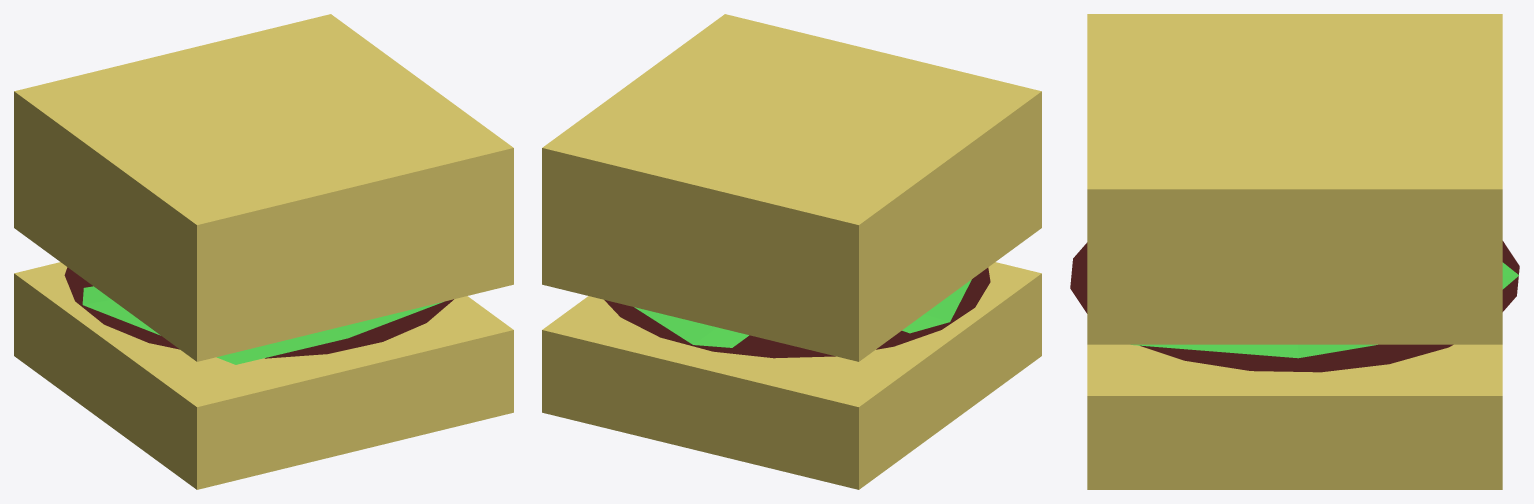
Rendered from burger.glb.
3 renders of one model, left to right at view 1: azimuth 30°, elevation 25°; view 2: azimuth 150°, elevation 25°; view 3: azimuth 270°, elevation 25°, orthographic. The views are drawn at different scales.
Parts seen in each view (by area): view 1: Cube, Cube.002, Plane, Cube.001; view 2: Cube, Cube.002, Plane, Cube.001; view 3: Cube, Cube.002, Plane, Cube.001.
Part boxes in pixels (box(x1,y1,x2,y2)): Cube: box(14, 14, 513, 361); Cube.002: box(14, 262, 513, 489); Plane: box(64, 267, 453, 358); Cube.001: box(82, 286, 442, 364); Cube: box(542, 14, 1041, 361); Cube.002: box(542, 262, 1041, 489); Plane: box(604, 267, 990, 358); Cube.001: box(634, 279, 971, 347); Cube: box(1087, 14, 1502, 344); Cube.002: box(1087, 344, 1502, 489); Plane: box(1070, 241, 1519, 372); Cube.001: box(1131, 262, 1518, 358).
Size of the model in its own units: 2.17 by 1.6 by 2.17.
